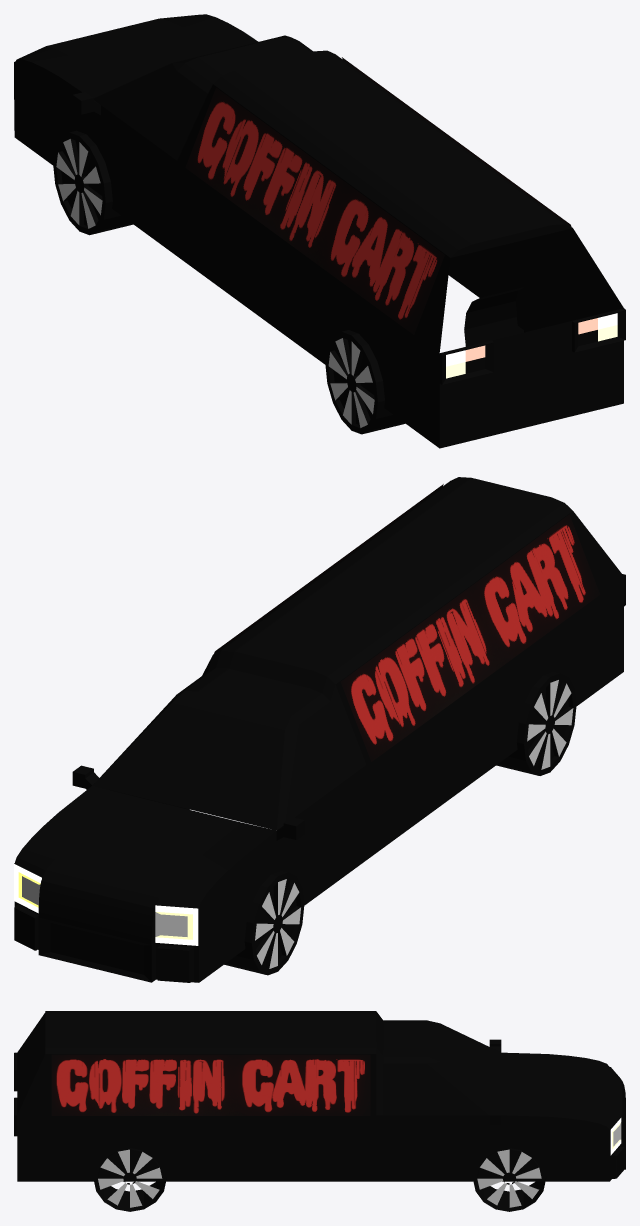
The model's file is Coffin Cart.glb.
3 views of the same model, one above another, from view 1: azimuth 30°, elevation 25°; view 2: azimuth 150°, elevation 25°; view 3: azimuth 270°, elevation 25° (orthographic). The views are drawn at different scales.
Parts seen in each view (by area): view 1: Cube; view 2: Cube; view 3: Cube.
Part boxes in pixels (x1=…): Cube: x1=14, y1=14, x2=625, y2=448; Cube: x1=14, y1=477, x2=625, y2=982; Cube: x1=14, y1=1011, x2=625, y2=1211.
Bounding box in the file's own units: 4.91 × 4.53 × 16.69.
8 materials, 1 textured.
